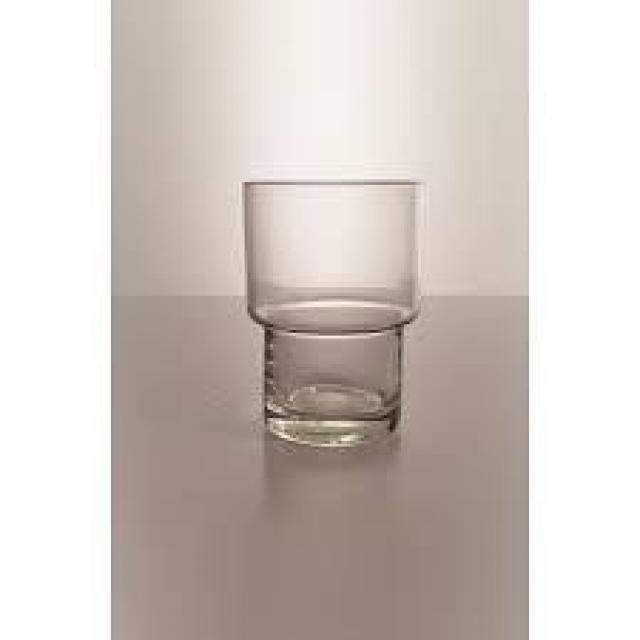non-organic waste: (240, 178, 426, 445)
